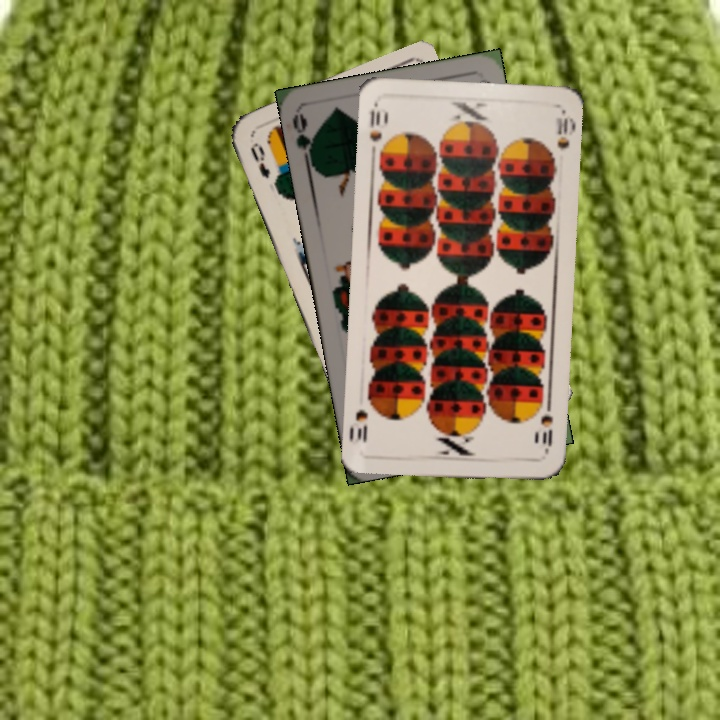EO: (246, 138, 273, 181)
GO: (288, 111, 319, 170)
S10: (366, 100, 389, 159), (537, 411, 556, 457)
